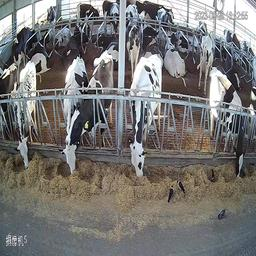cow: (63, 50, 114, 144), (208, 66, 247, 179), (128, 55, 163, 177), (56, 56, 90, 177), (14, 63, 37, 166), (12, 22, 37, 79), (164, 36, 188, 78), (63, 26, 87, 68), (198, 32, 215, 87), (126, 15, 141, 74), (76, 3, 100, 38), (31, 31, 50, 72), (1, 59, 13, 118), (222, 27, 242, 61), (102, 0, 119, 37), (173, 27, 195, 55), (157, 6, 176, 35), (142, 27, 160, 56), (124, 4, 138, 35), (110, 3, 119, 39), (46, 5, 56, 37), (244, 39, 255, 63), (199, 20, 208, 39)
